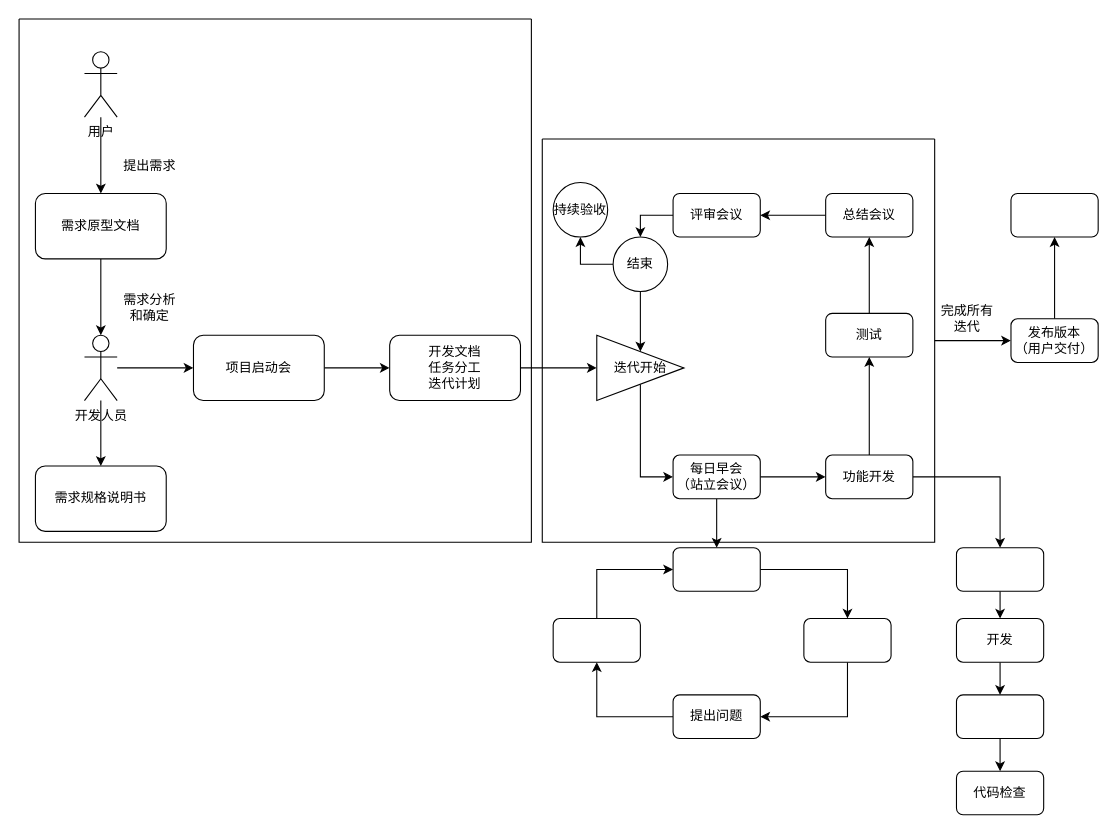
The diagram is 1117 pixels wide and 834 high, and some of its shapes have lost their labels. Here are the shapes that lost their labels. From the top down, the centre of each, then its label:
point 1054,214: 项目总结
point 274,280: 项目规划管理
point 738,340: 迭代开发管理
point 716,569: 昨日复盘
point 999,569: 设计
point 596,639: 问题记录
point 847,639: 今日任务
point 999,716: 提交代码
